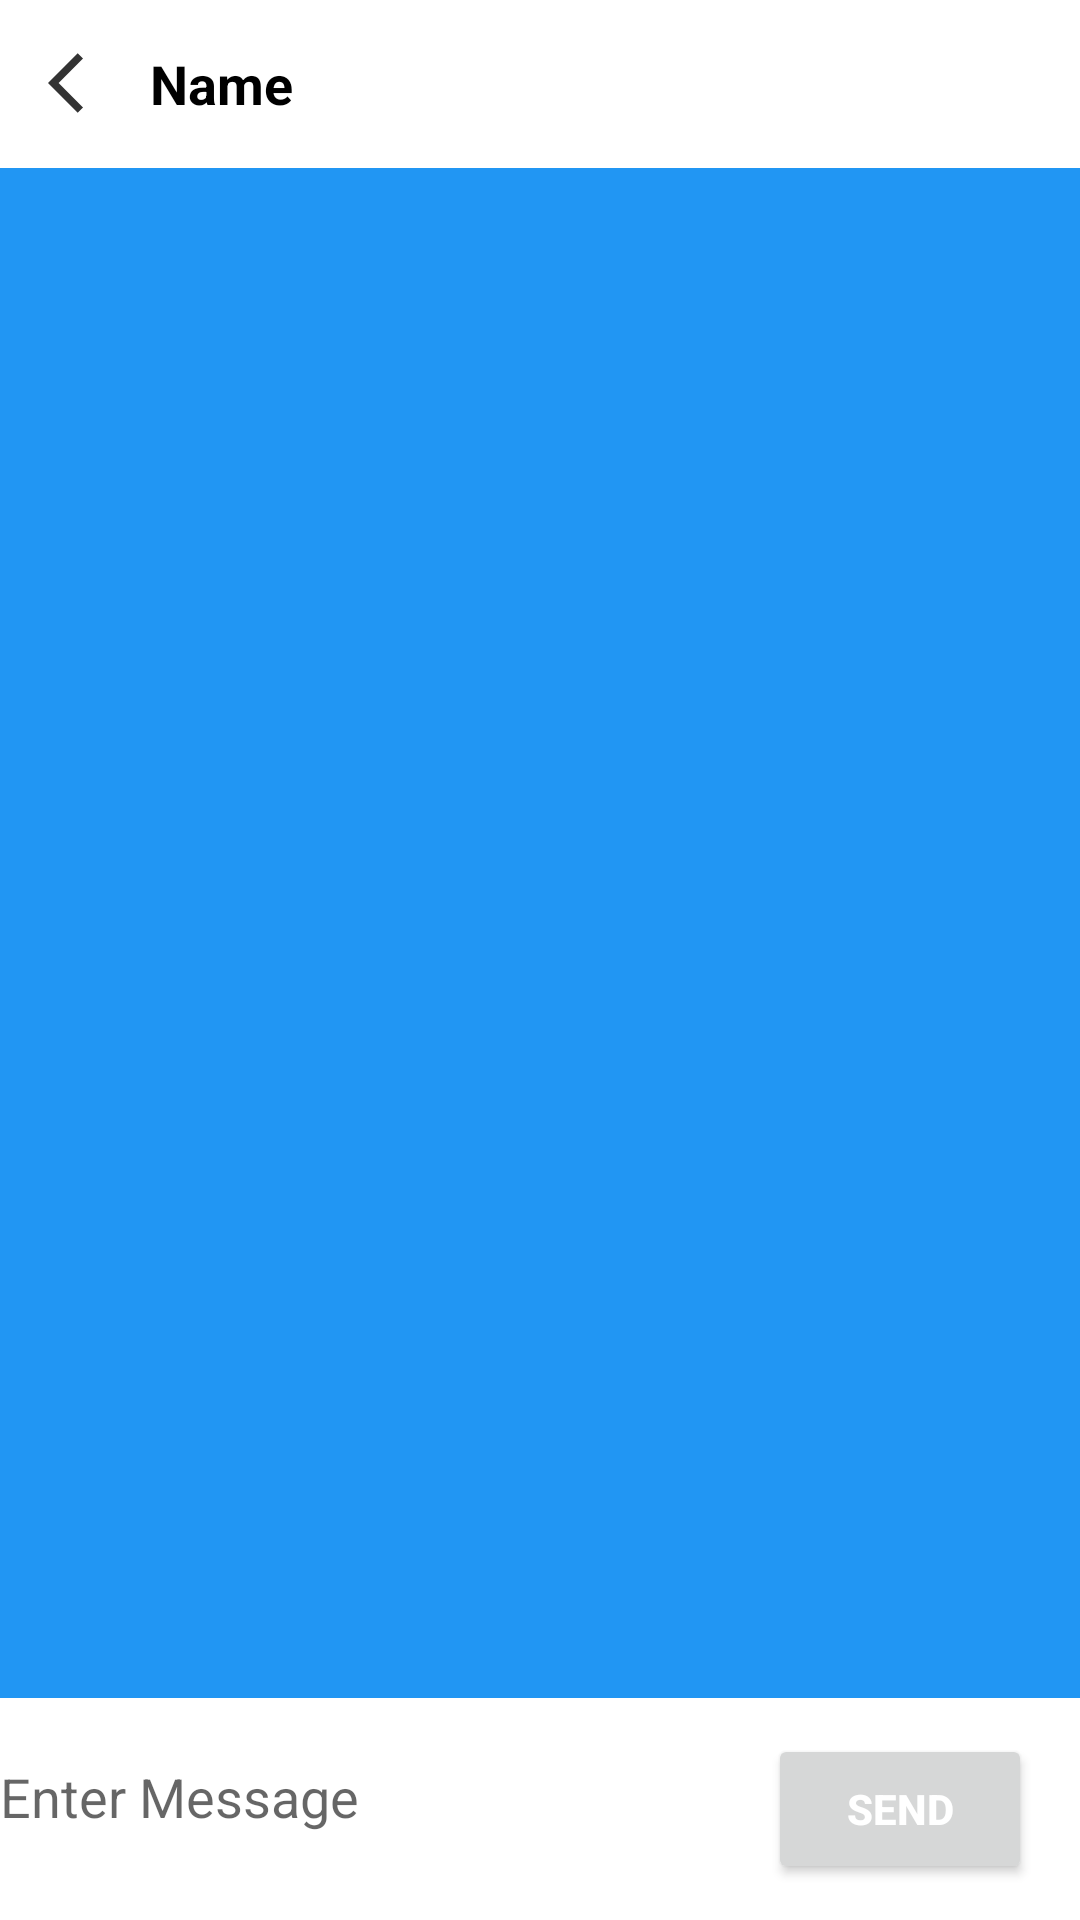

Icons on this 1080w x 1920h Android screen, each with its box as BBox(x1, y1, x2, y2):
back: BBox(48, 53, 83, 113)
